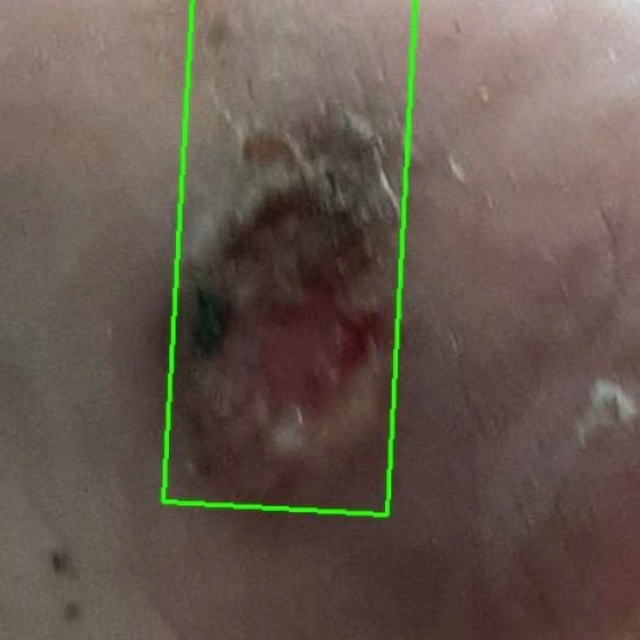Eczema: (164, 0, 416, 515)
